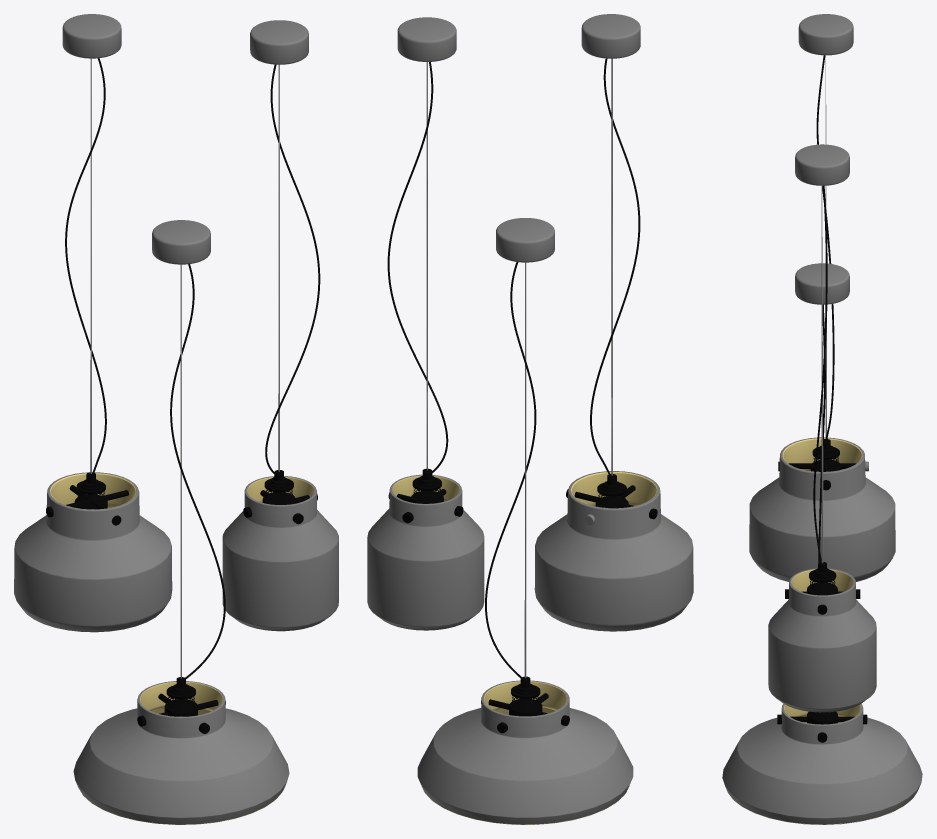
File: LAMPATRON__ZIEL_corona.FBX
3 renders of one model, left to right at view 1: azimuth 30°, elevation 25°; view 2: azimuth 150°, elevation 25°; view 3: azimuth 270°, elevation 25°, orthographic. The views are drawn at different scales.
Parts seen in each view (by area): view 1: Lampatron ZIEL01, Lampatron ZIEL03, Lampatron ZIEL02; view 2: Lampatron ZIEL01, Lampatron ZIEL03, Lampatron ZIEL02; view 3: Lampatron ZIEL01, Lampatron ZIEL03, Lampatron ZIEL02.
Boxes of the visible parts, bbox=[...] form: Lampatron ZIEL01: bbox=[73, 220, 289, 824]; Lampatron ZIEL03: bbox=[14, 14, 172, 632]; Lampatron ZIEL02: bbox=[222, 20, 338, 631]; Lampatron ZIEL01: bbox=[417, 218, 633, 824]; Lampatron ZIEL03: bbox=[534, 14, 693, 631]; Lampatron ZIEL02: bbox=[367, 17, 484, 630]; Lampatron ZIEL01: bbox=[722, 263, 922, 824]; Lampatron ZIEL03: bbox=[749, 14, 895, 581]; Lampatron ZIEL02: bbox=[768, 144, 876, 712].
Bounding box in the file's own units: 23.61 × 57.12 × 14.4.
